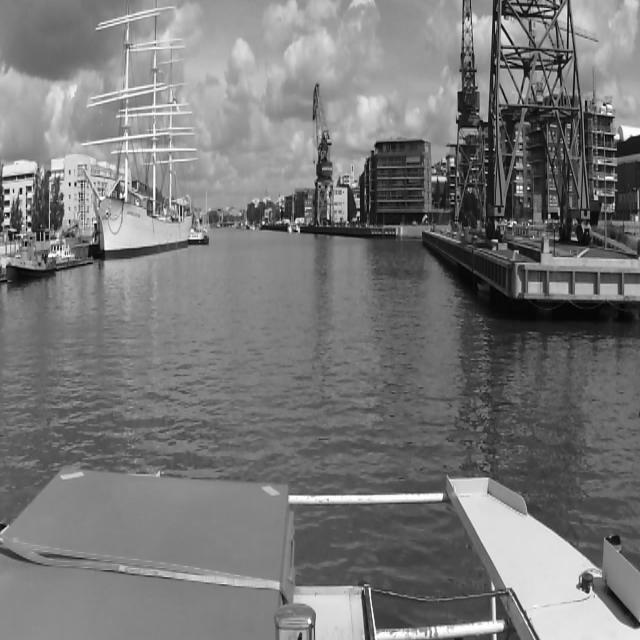ship: (82, 12, 192, 260), (6, 230, 52, 284), (288, 192, 300, 233), (189, 230, 209, 246)
